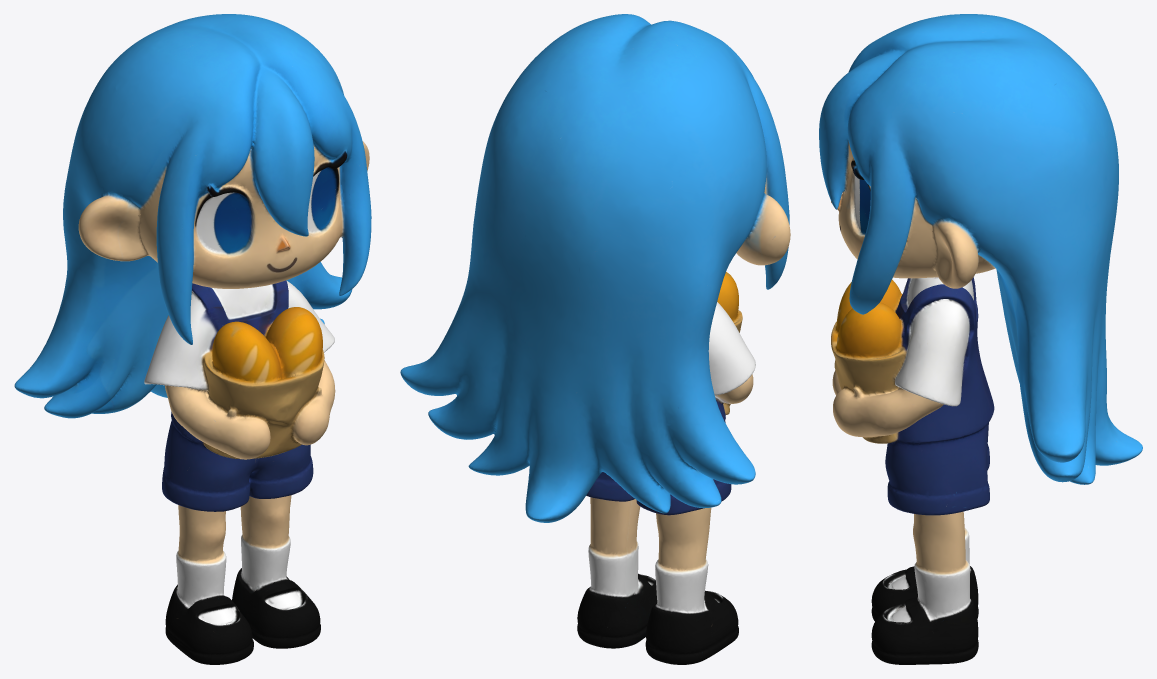
Rendered from character.glb.
3 renders of one model, left to right at view 1: azimuth 30°, elevation 25°; view 2: azimuth 150°, elevation 25°; view 3: azimuth 270°, elevation 25°, orthographic. The views are drawn at different scales.
Bounding box in the file's own units: 1.13 × 1.9 × 0.9216.
1 material, 1 textured.
